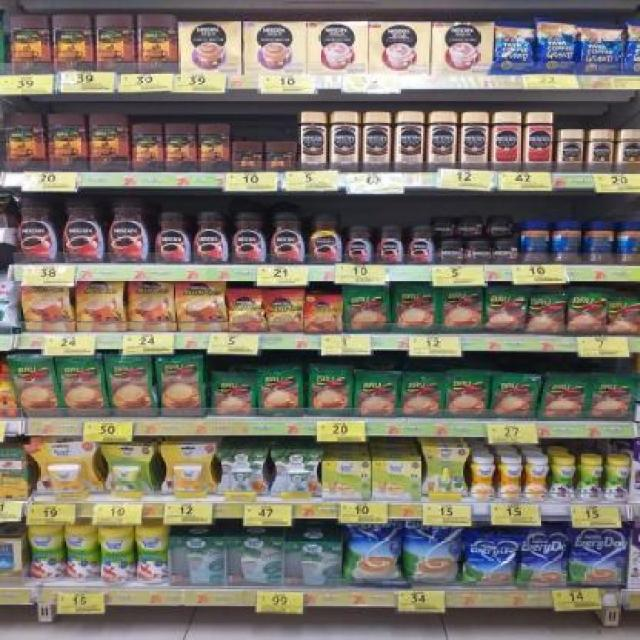Coffee: (64, 194, 104, 260), (19, 196, 55, 262), (110, 196, 146, 261), (178, 282, 224, 332), (77, 282, 121, 331), (24, 286, 70, 331), (131, 282, 174, 330), (155, 210, 188, 262), (269, 211, 302, 263), (426, 113, 456, 169), (195, 212, 228, 262), (232, 212, 265, 262), (299, 113, 327, 169), (396, 112, 422, 170), (332, 112, 358, 170), (462, 113, 488, 169), (230, 290, 264, 330), (365, 114, 389, 170), (269, 292, 302, 332), (306, 297, 339, 332), (346, 227, 372, 264), (377, 227, 403, 264), (556, 131, 580, 171), (589, 131, 613, 171), (408, 226, 434, 262), (618, 130, 640, 170), (438, 241, 462, 264), (492, 241, 518, 262), (466, 241, 489, 262), (459, 217, 483, 237), (488, 218, 514, 236), (433, 218, 452, 236)
